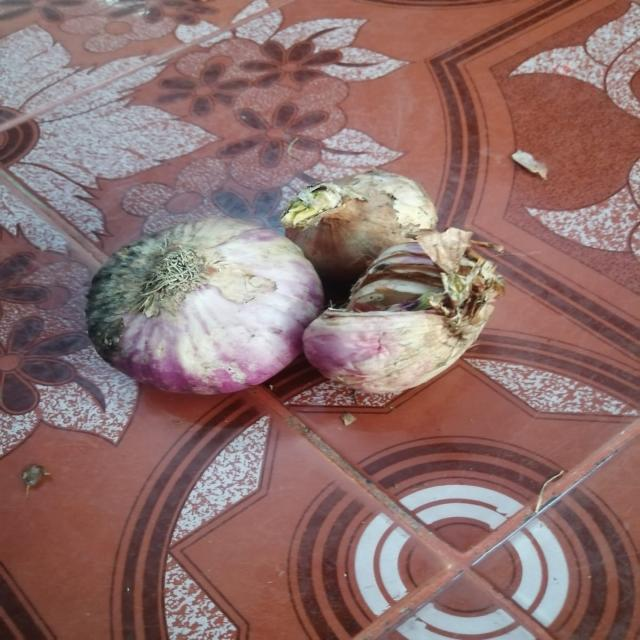rotten: (98, 245, 163, 326), (353, 272, 458, 316)
sprouting: (280, 188, 345, 217)
